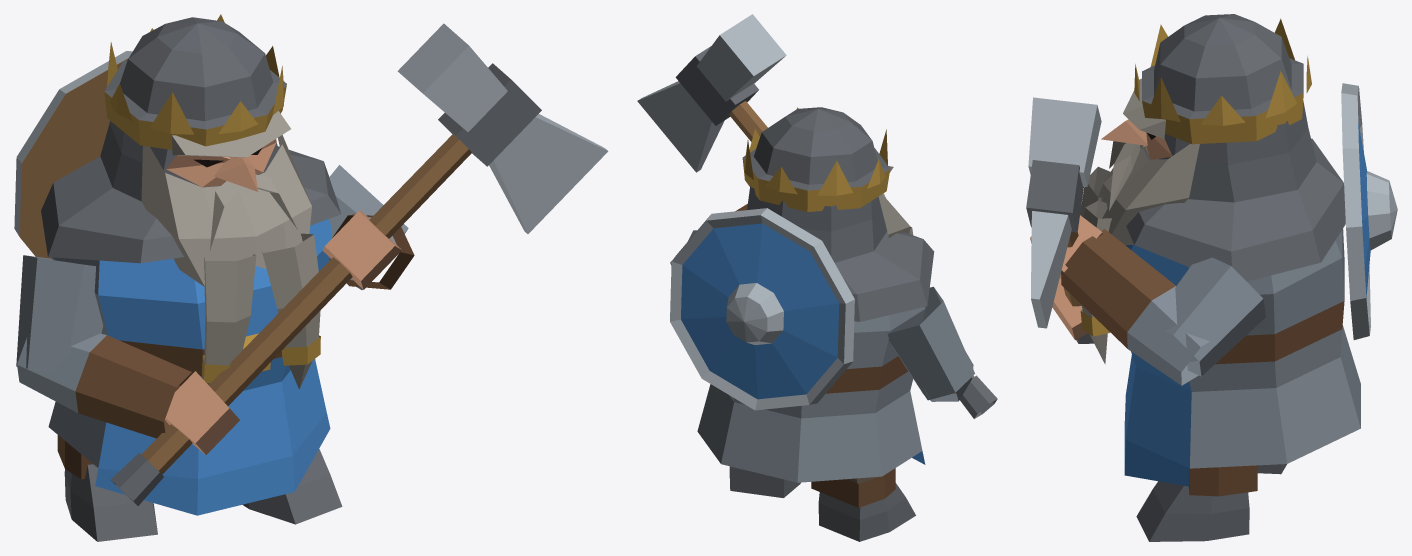
File: dain.glb
The picture shows the model from 3 angles, left to right: view 1: azimuth 30°, elevation 25°; view 2: azimuth 150°, elevation 25°; view 3: azimuth 270°, elevation 25°; orthographic projection. The views are drawn at different scales.
Parts seen in each view (by area): view 1: dain; view 2: dain; view 3: dain.
Part boxes in pixels (box(x1,y1,x2,y2)): dain: box(14, 14, 608, 541); dain: box(637, 14, 997, 541); dain: box(1026, 14, 1397, 541).
Bounding box in the file's own units: 1.25 × 1.16 × 0.8215.
